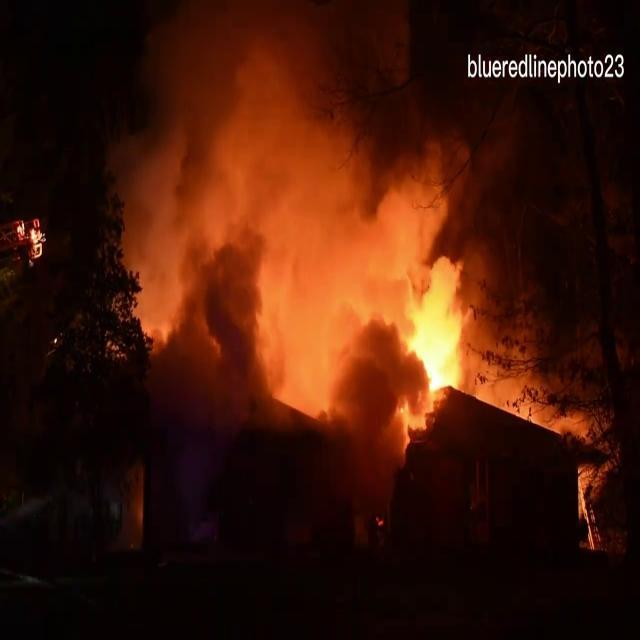Fire: (391, 274, 490, 444)
Smoke: (100, 8, 542, 417)
